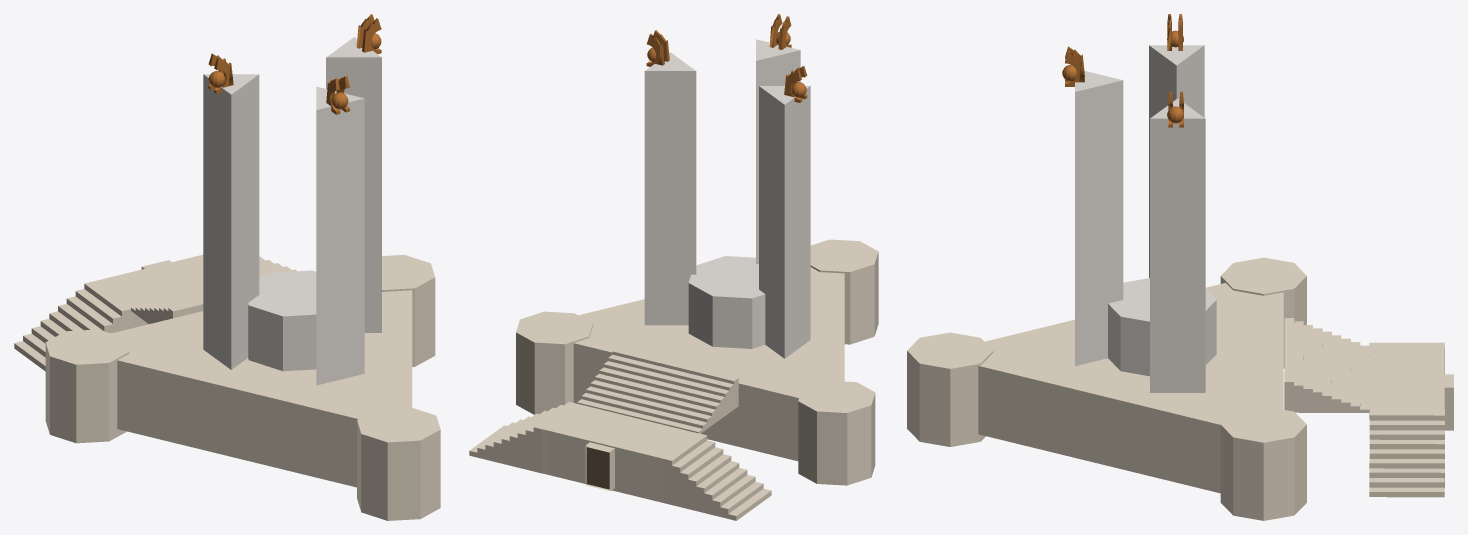
Rendered from QC_CIRCLE MONUMENT.fbx.
The picture shows the model from 3 angles, left to right: view 1: azimuth 30°, elevation 25°; view 2: azimuth 150°, elevation 25°; view 3: azimuth 270°, elevation 25°; orthographic projection. The views are drawn at different scales.
Visible parts, largest first — view 1: pCylinder12; view 2: pCylinder12; view 3: pCylinder12.
Part boxes in pixels (x1,y1,x2,y2): pCylinder12: (14,14,440,520); pCylinder12: (469,14,878,520); pCylinder12: (907,14,1453,520).
Size of the model in its own units: 37.06 by 35.51 by 46.25.
Materials: 1 (1 with a texture image).
